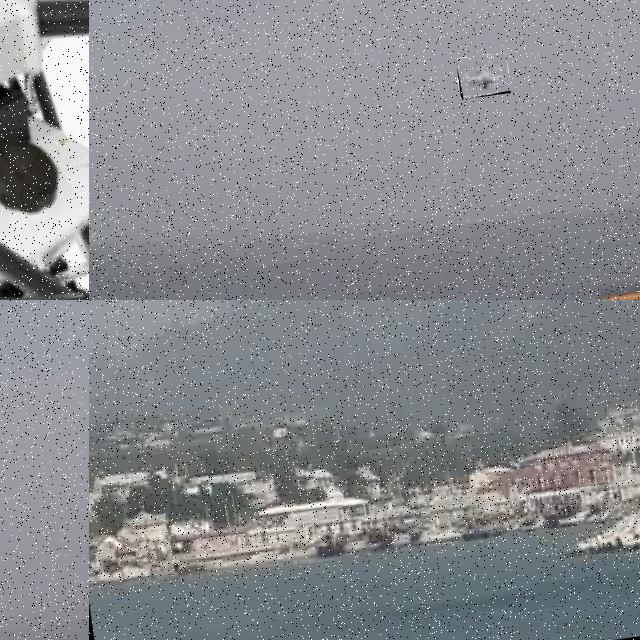0: (456, 52, 512, 100)
drone: (0, 0, 89, 300)
